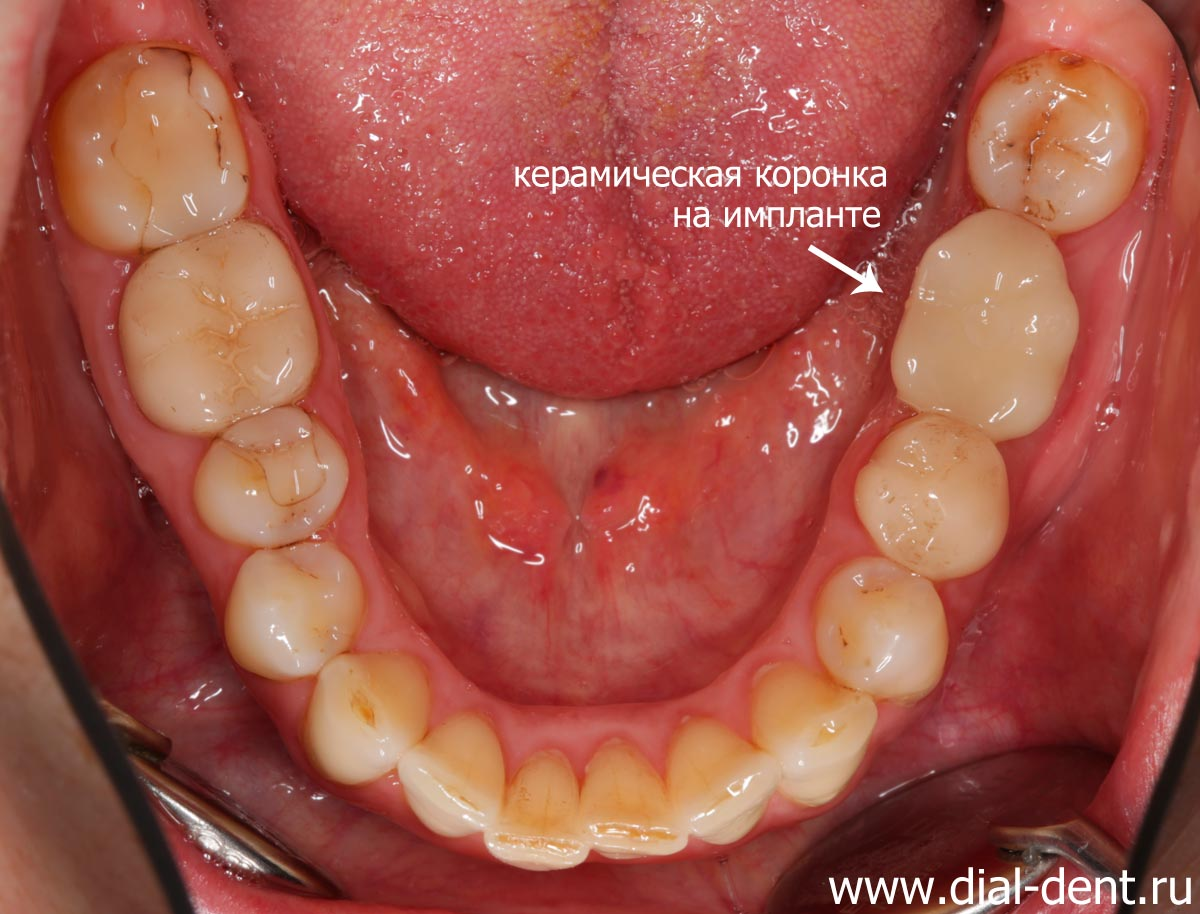LL1BC_decay: (811, 558, 952, 698)
LL1M_healthy: (902, 214, 1078, 440)
LL2BC_decay: (861, 415, 1009, 567)
LL2M_decay: (971, 54, 1145, 229)
LLCI_decay: (589, 734, 684, 867)
LLC_healthy: (758, 667, 875, 793)
LLLI_healthy: (669, 720, 779, 844)
LR1BC_healthy: (239, 551, 367, 666)
LR1M_decay: (131, 234, 317, 418)
LR2BC_decay: (202, 409, 349, 545)
LR2M_decay: (53, 51, 256, 242)
LRCI_decay: (506, 738, 588, 875)
LRC_decay: (308, 646, 424, 772)
LRLI_decay: (404, 709, 506, 836)
